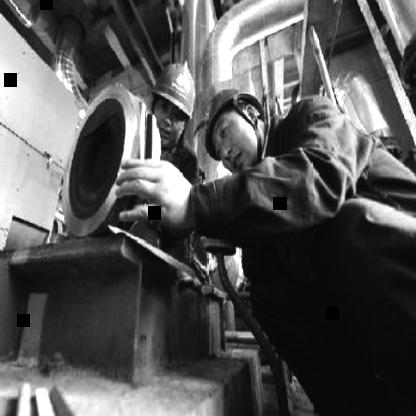helmet: (200, 77, 270, 176), (147, 57, 203, 148)
